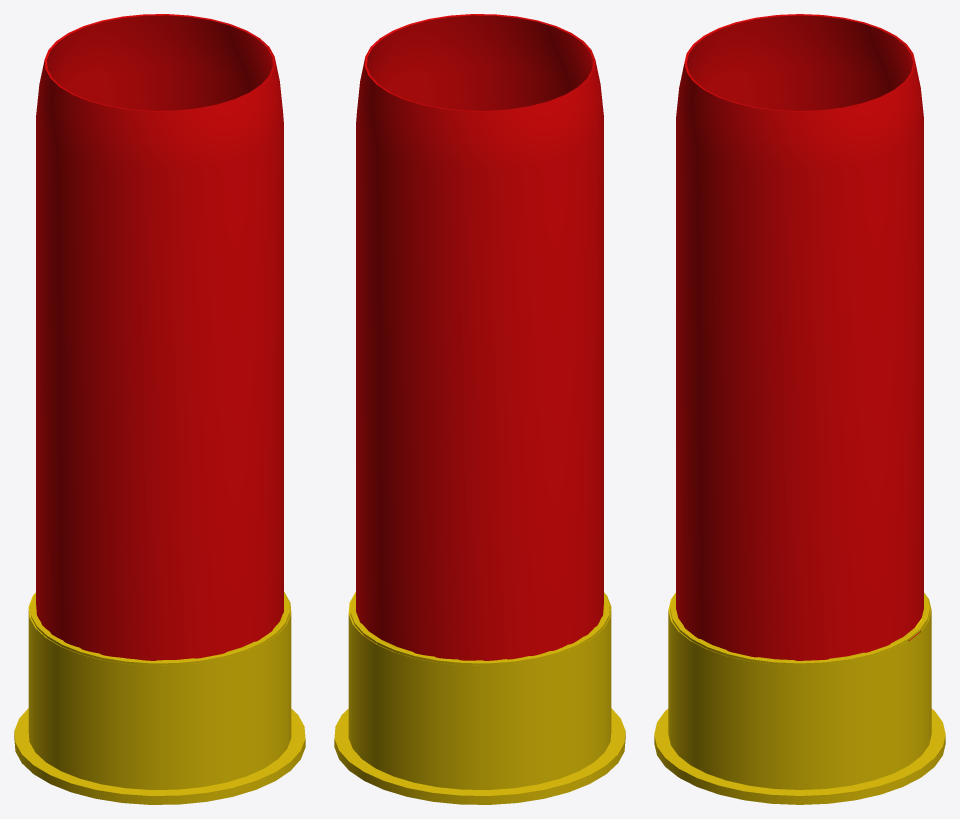
Rendered from shotgun shell.fbx.
The picture shows the model from 3 angles, left to right: view 1: azimuth 30°, elevation 25°; view 2: azimuth 150°, elevation 25°; view 3: azimuth 270°, elevation 25°; orthographic projection.
Parts seen in each view (by area): view 1: Cylinder; view 2: Cylinder; view 3: Cylinder.
Part boxes in pixels (x1=…): Cylinder: x1=14, y1=14, x2=305, y2=804; Cylinder: x1=334, y1=14, x2=625, y2=804; Cylinder: x1=654, y1=14, x2=945, y2=804.
Bounding box in the file's own units: 17.16 × 44.18 × 17.16.
